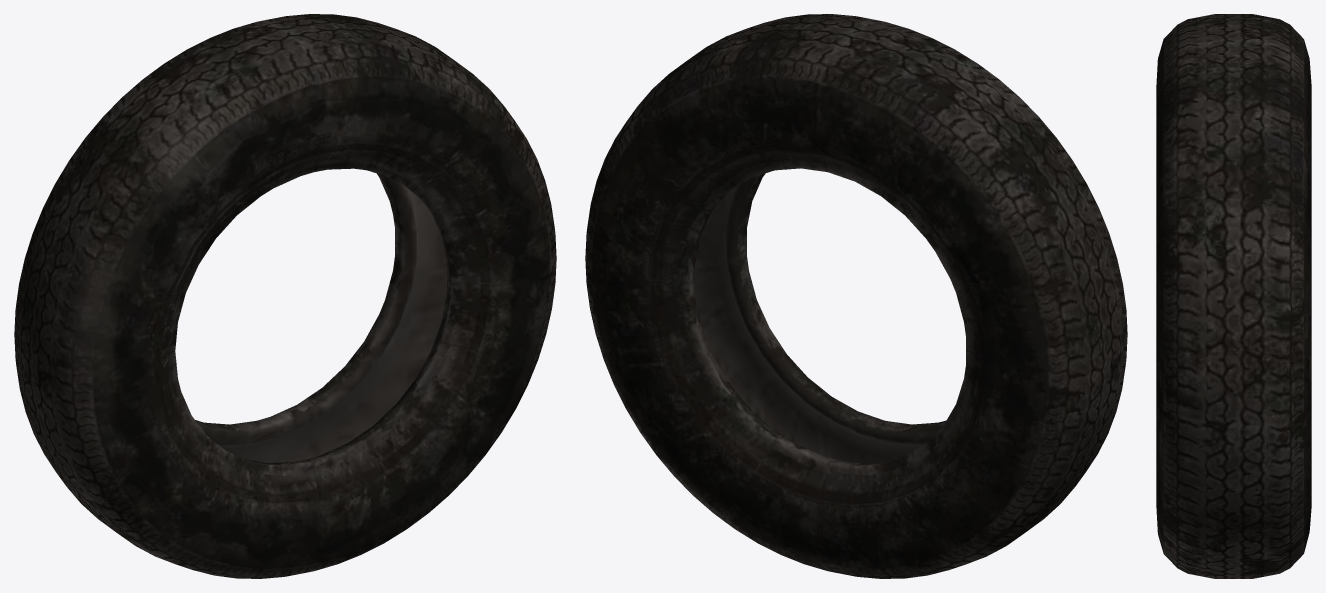
The model's file is tyre.glb.
3 renders of one model, left to right at view 1: azimuth 30°, elevation 25°; view 2: azimuth 150°, elevation 25°; view 3: azimuth 270°, elevation 25°, orthographic. The views are drawn at different scales.
Parts seen in each view (by area): view 1: old_tyre; view 2: old_tyre; view 3: old_tyre.
Boxes of the visible parts, bbox=[...] form: old_tyre: bbox=[14, 14, 556, 578]; old_tyre: bbox=[585, 14, 1127, 578]; old_tyre: bbox=[1156, 14, 1311, 578].
Size of the model in its own units: 0.6 by 0.6 by 0.165.
1 material, 1 textured.
